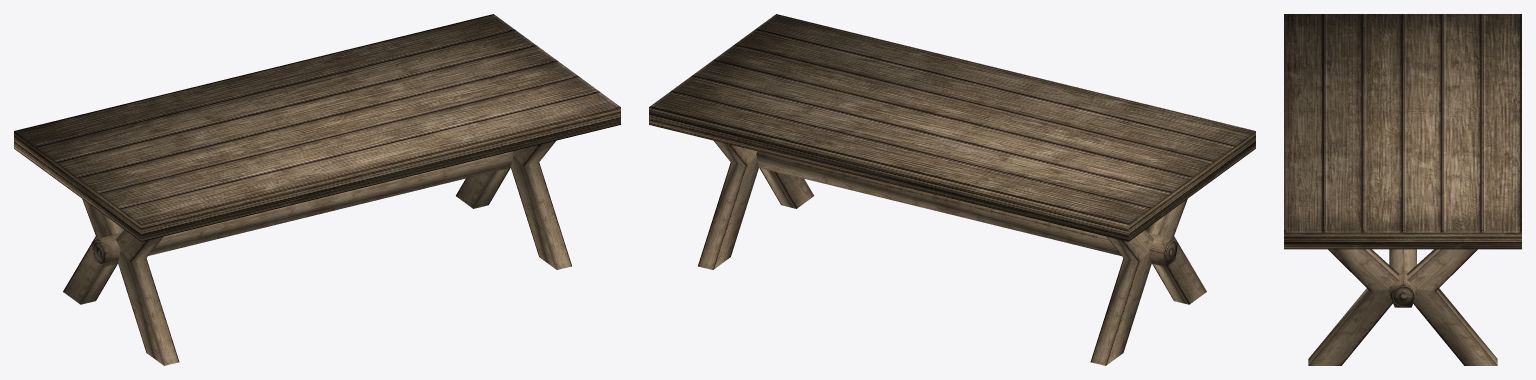
Rendered from GS_LOB_TABLE_HEAVY_YELLOW_01_KOZA.glb.
The picture shows the model from 3 angles, left to right: view 1: azimuth 30°, elevation 25°; view 2: azimuth 150°, elevation 25°; view 3: azimuth 270°, elevation 25°; orthographic projection. The views are drawn at different scales.
Visible parts, largest first — view 1: Mesh; view 2: Mesh; view 3: Mesh.
Part boxes in pixels (<box>): Mesh: <box>14,14,620,365</box>; Mesh: <box>649,14,1255,365</box>; Mesh: <box>1284,14,1521,365</box>.
Bounding box in the file's own units: 2.82 × 0.9 × 1.3.
3 materials, 3 textured.
